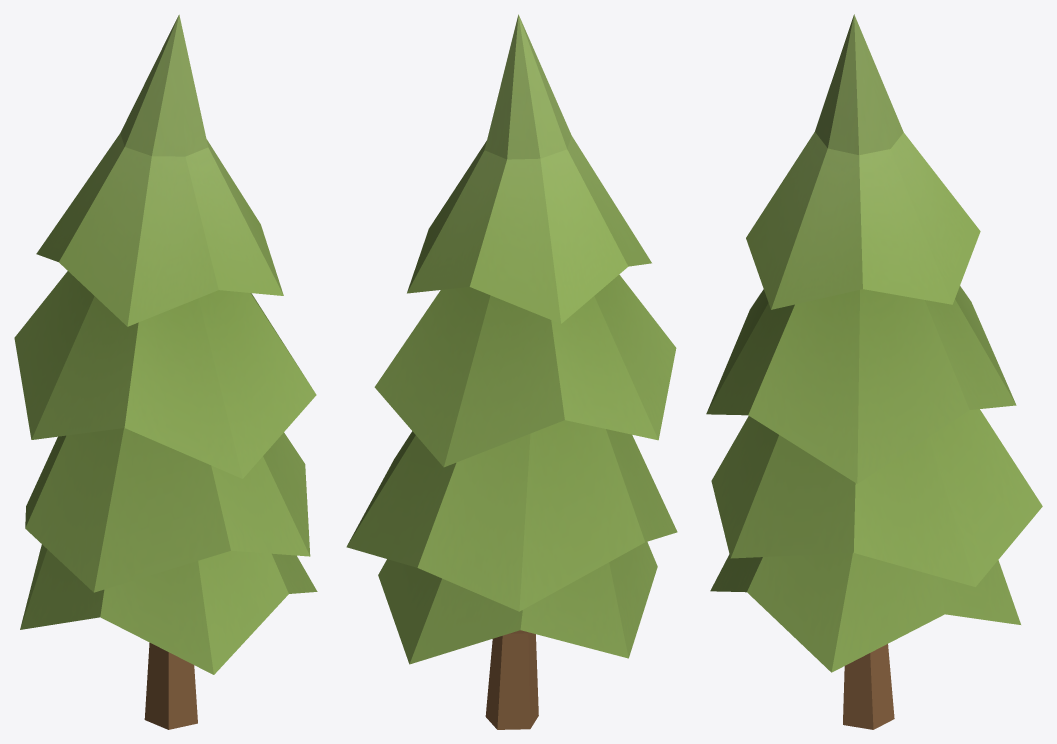
Rendered from Pine_Tree_OneSided_m_06.fbx.
3 views of the same model, side by side, from view 1: azimuth 30°, elevation 25°; view 2: azimuth 150°, elevation 25°; view 3: azimuth 270°, elevation 25° (orthographic).
Visible parts, largest first — view 1: Pine_Tree_OneSided_m_06; view 2: Pine_Tree_OneSided_m_06; view 3: Pine_Tree_OneSided_m_06.
Boxes of the visible parts, box(x1,y1,x2,y2) form: Pine_Tree_OneSided_m_06: box(14, 14, 317, 729); Pine_Tree_OneSided_m_06: box(346, 14, 677, 729); Pine_Tree_OneSided_m_06: box(706, 14, 1042, 729).
Bounding box in the file's own units: 375 × 935 × 405.
